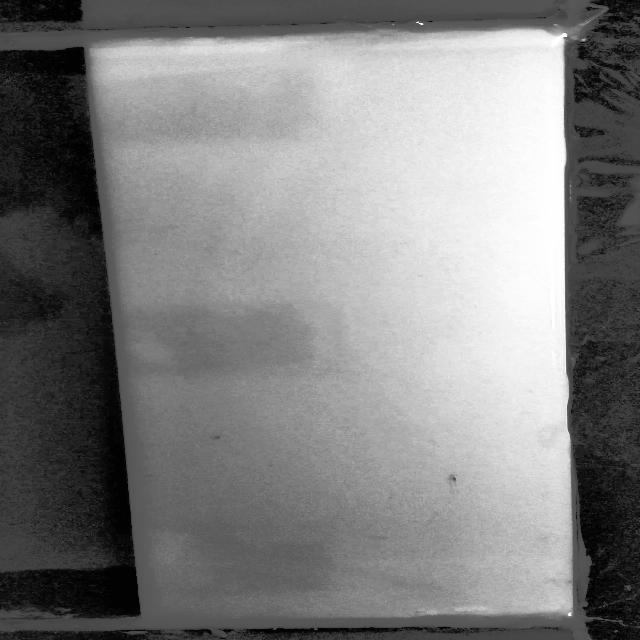shrimp: (443, 471, 467, 495), (206, 428, 229, 441)
